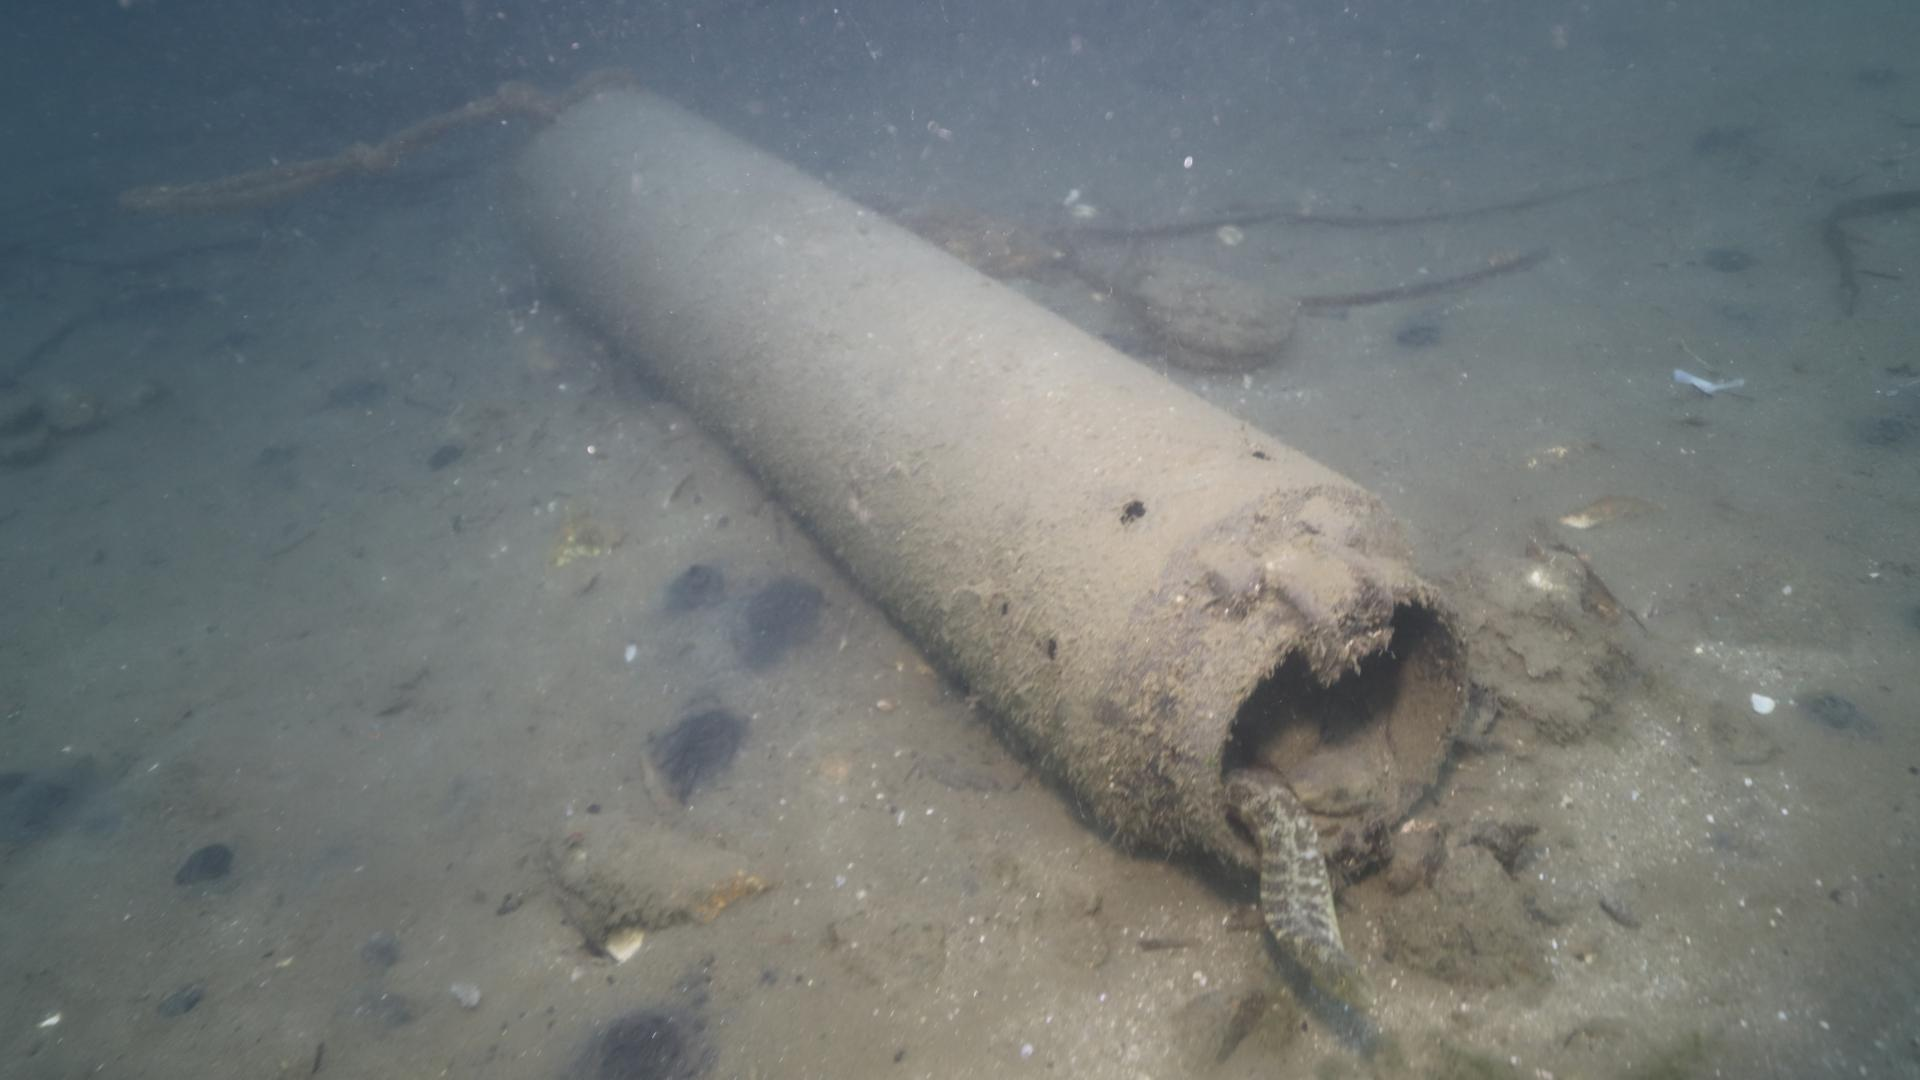bundle of ropes: (109, 61, 636, 215)
eel fish trap: (504, 87, 1476, 911)
